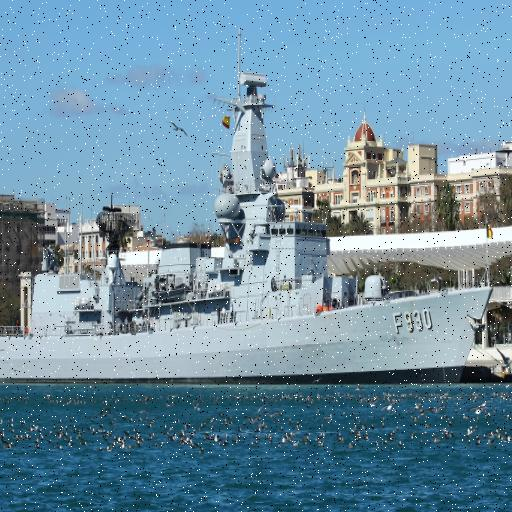Fragata: (1, 68, 495, 386)
